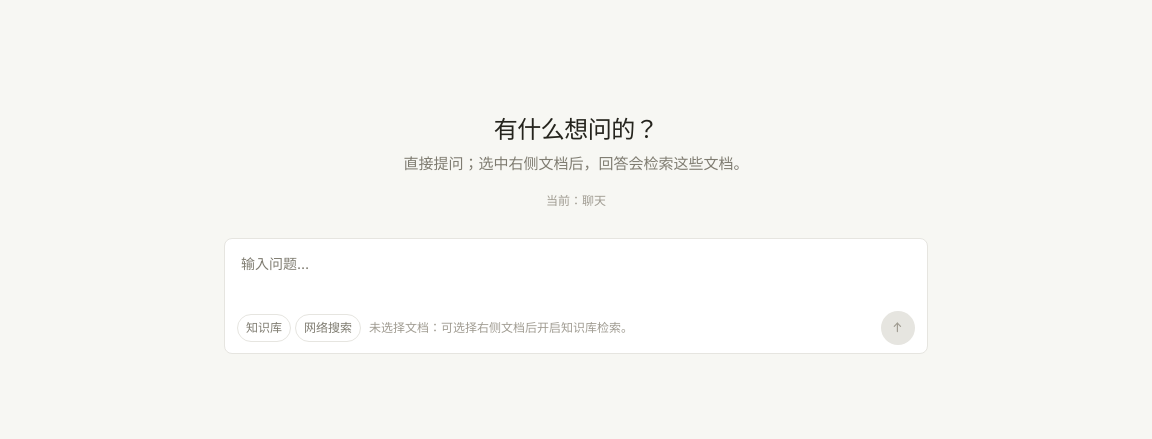
Test: WorkspaceChatPane streaming status hints › does not show the guardrail notice when the report only contains allow results
The image size is (1152, 439).
Type "Why is this normal?" into the text box named "工作区对话输入框".
click(576, 277); type("Why is this normal?")  # box top-left (237, 251), bottom-right (915, 303)
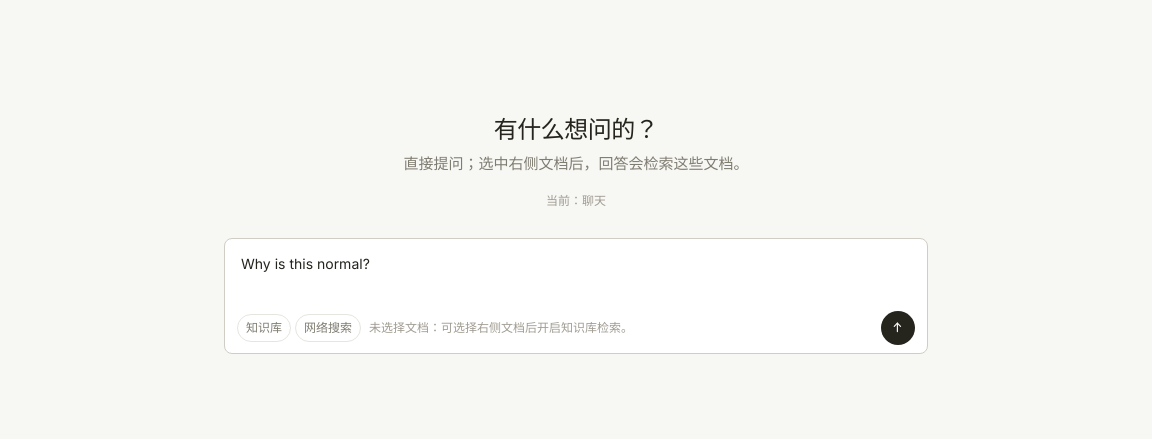
Press Enter
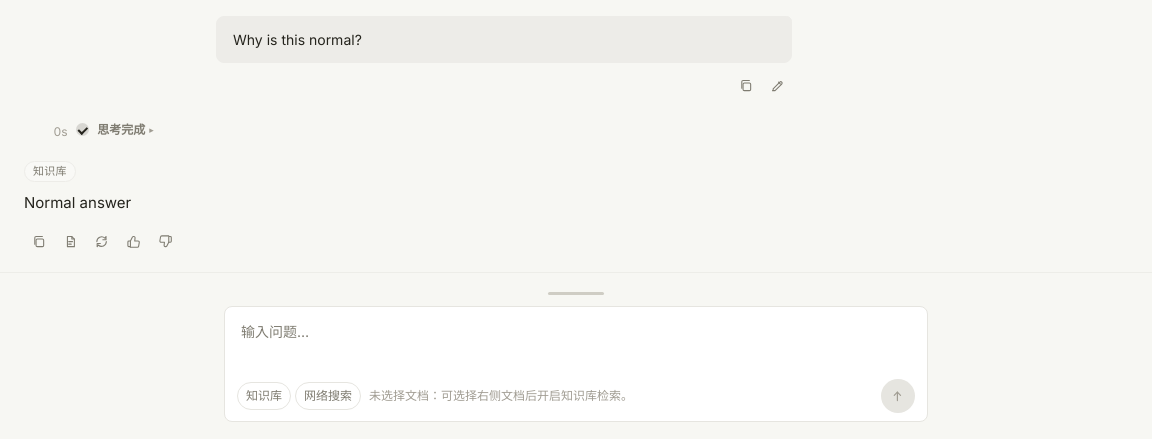
Expected: the text "Normal answer" is shown, top-left (24, 192), bottom-right (131, 214)
